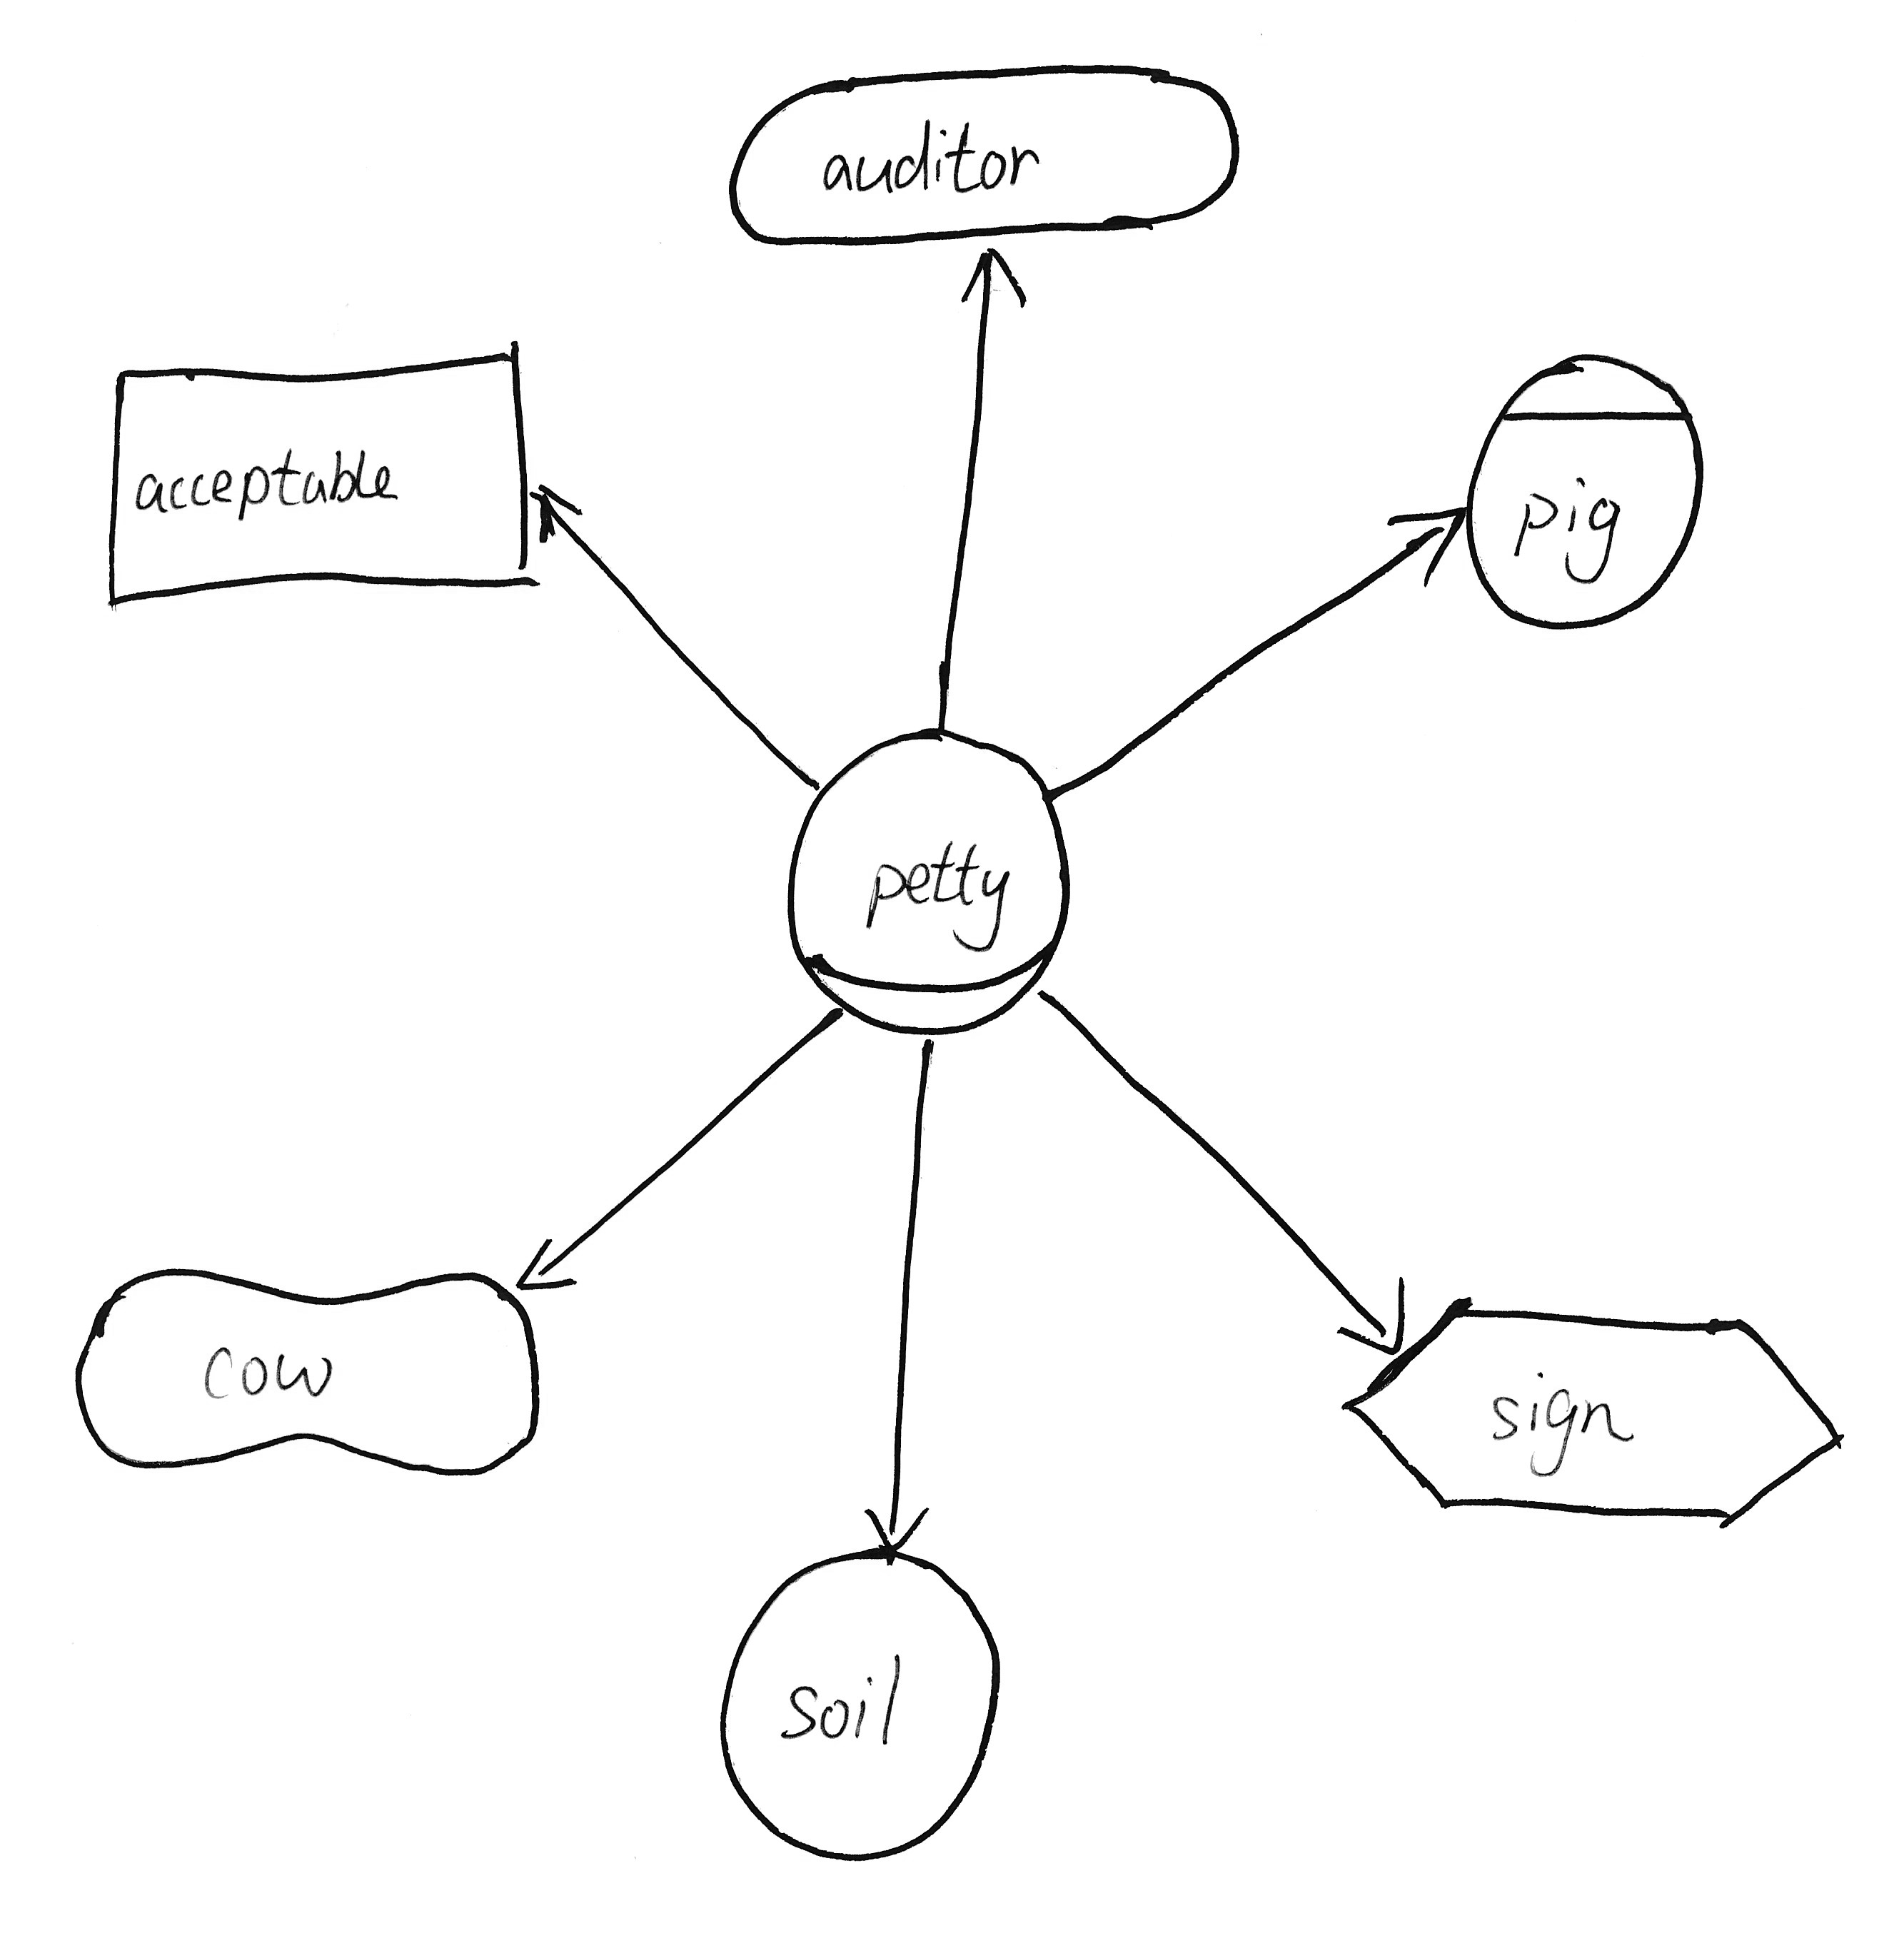actor: (696, 1528, 1018, 1878), (1449, 338, 1716, 650)
arrow: (1374, 492, 1477, 605), (1327, 1261, 1416, 1362), (942, 237, 1039, 326), (849, 1486, 952, 1568), (521, 462, 593, 563), (509, 1233, 574, 1317)
goal: (717, 42, 1257, 262)
quality: (56, 1254, 553, 1491)
resource: (87, 323, 547, 628)
role: (772, 713, 1088, 1051)
task: (1325, 1278, 1869, 1545)
